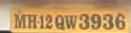character: (114, 12, 126, 30), (78, 13, 90, 30), (102, 13, 114, 30), (90, 12, 101, 30), (64, 14, 77, 29), (14, 13, 26, 29), (54, 14, 64, 30), (27, 14, 36, 29), (45, 14, 52, 29), (38, 15, 43, 29)
